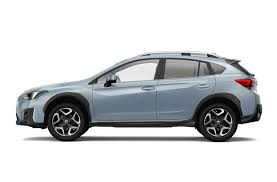pickup: (14, 49, 263, 141)
